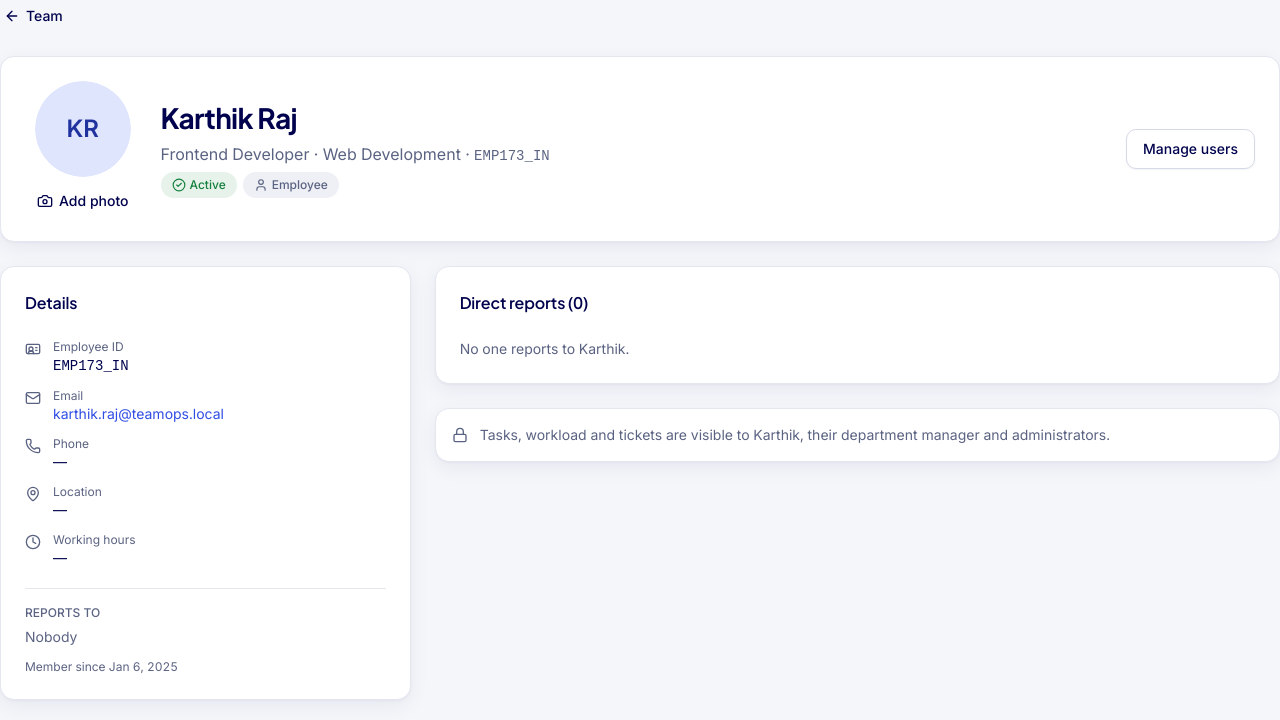
it: TeamProfilePage › shows the employee ID, and offers the photo only to its owner and the Super Admin
Click the button "Add photo" at point(83, 201), box x1=25 y1=185 x2=140 y2=217
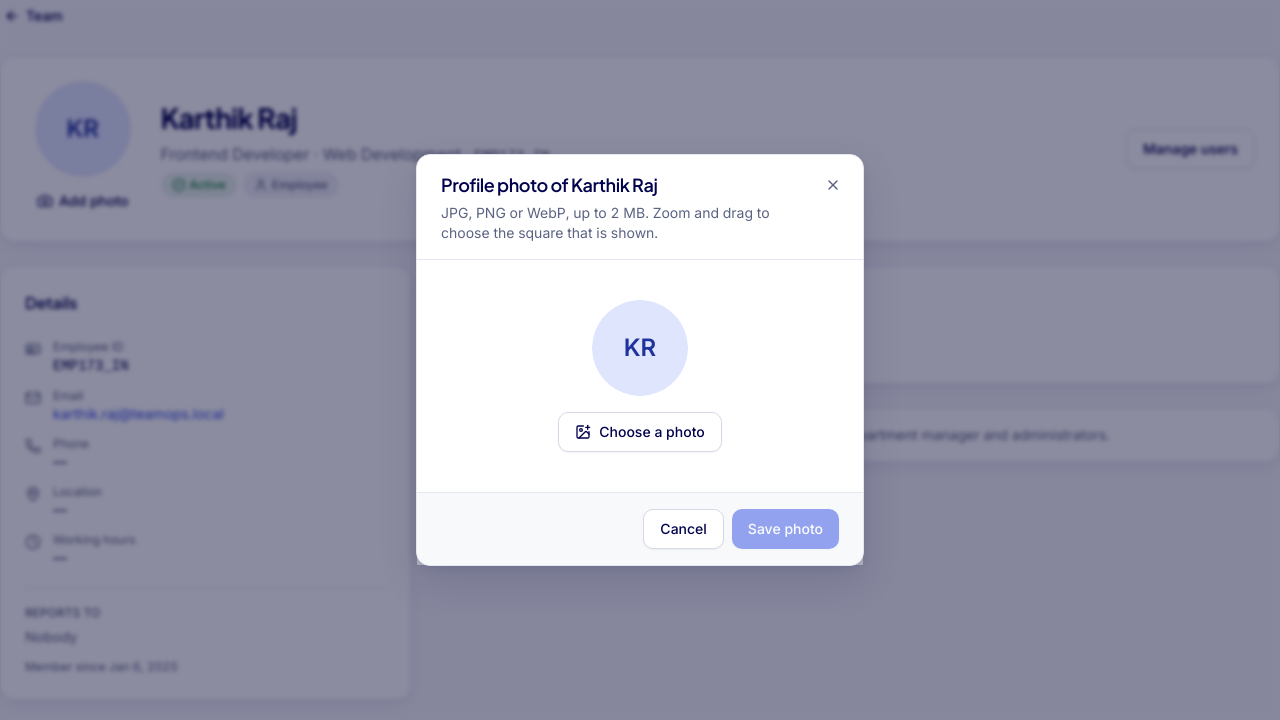
Now the heading "Profile photo of Karthik Raj" is shown, box x1=441 y1=173 x2=657 y2=196
